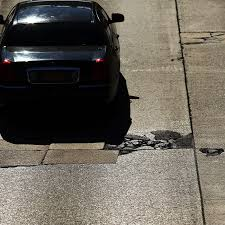pothole: (119, 132, 173, 159)
